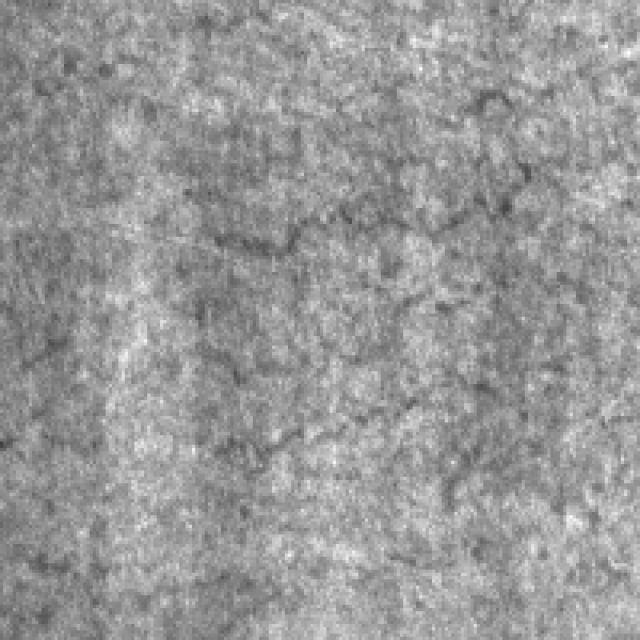crazing: (192, 282, 515, 470), (218, 80, 538, 253)
